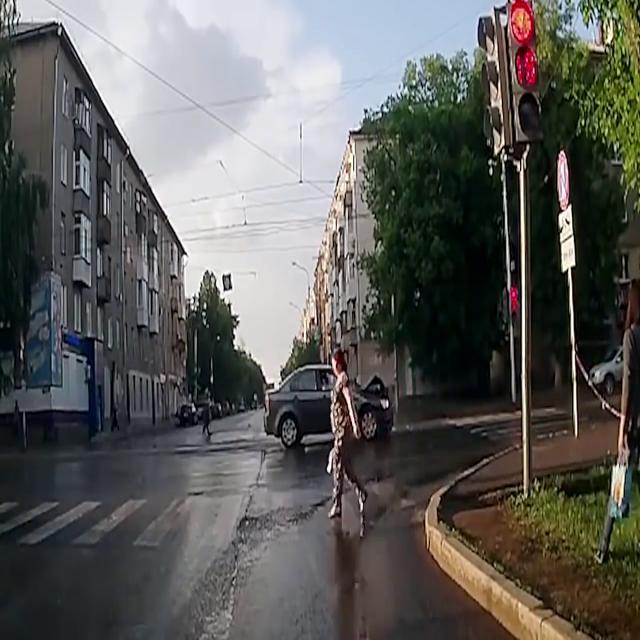normal: (239, 295, 392, 460)
